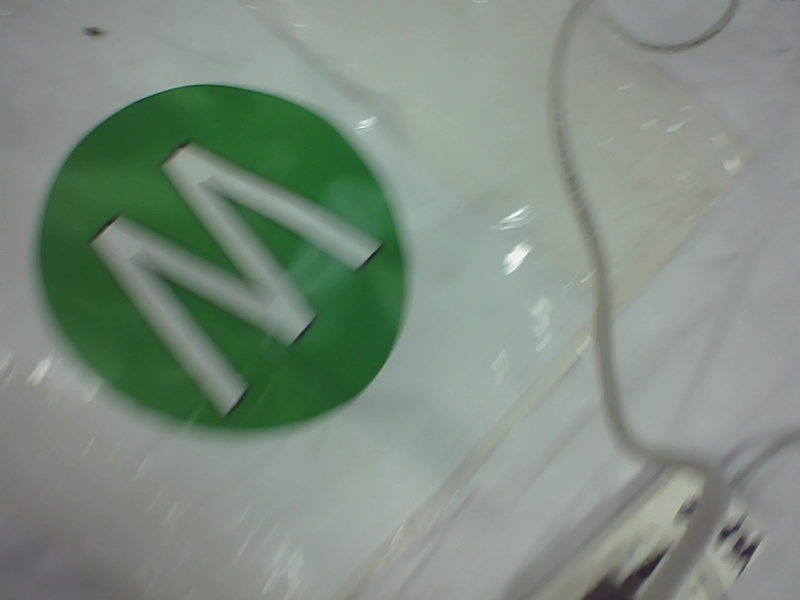areaB: (22, 69, 424, 445)
